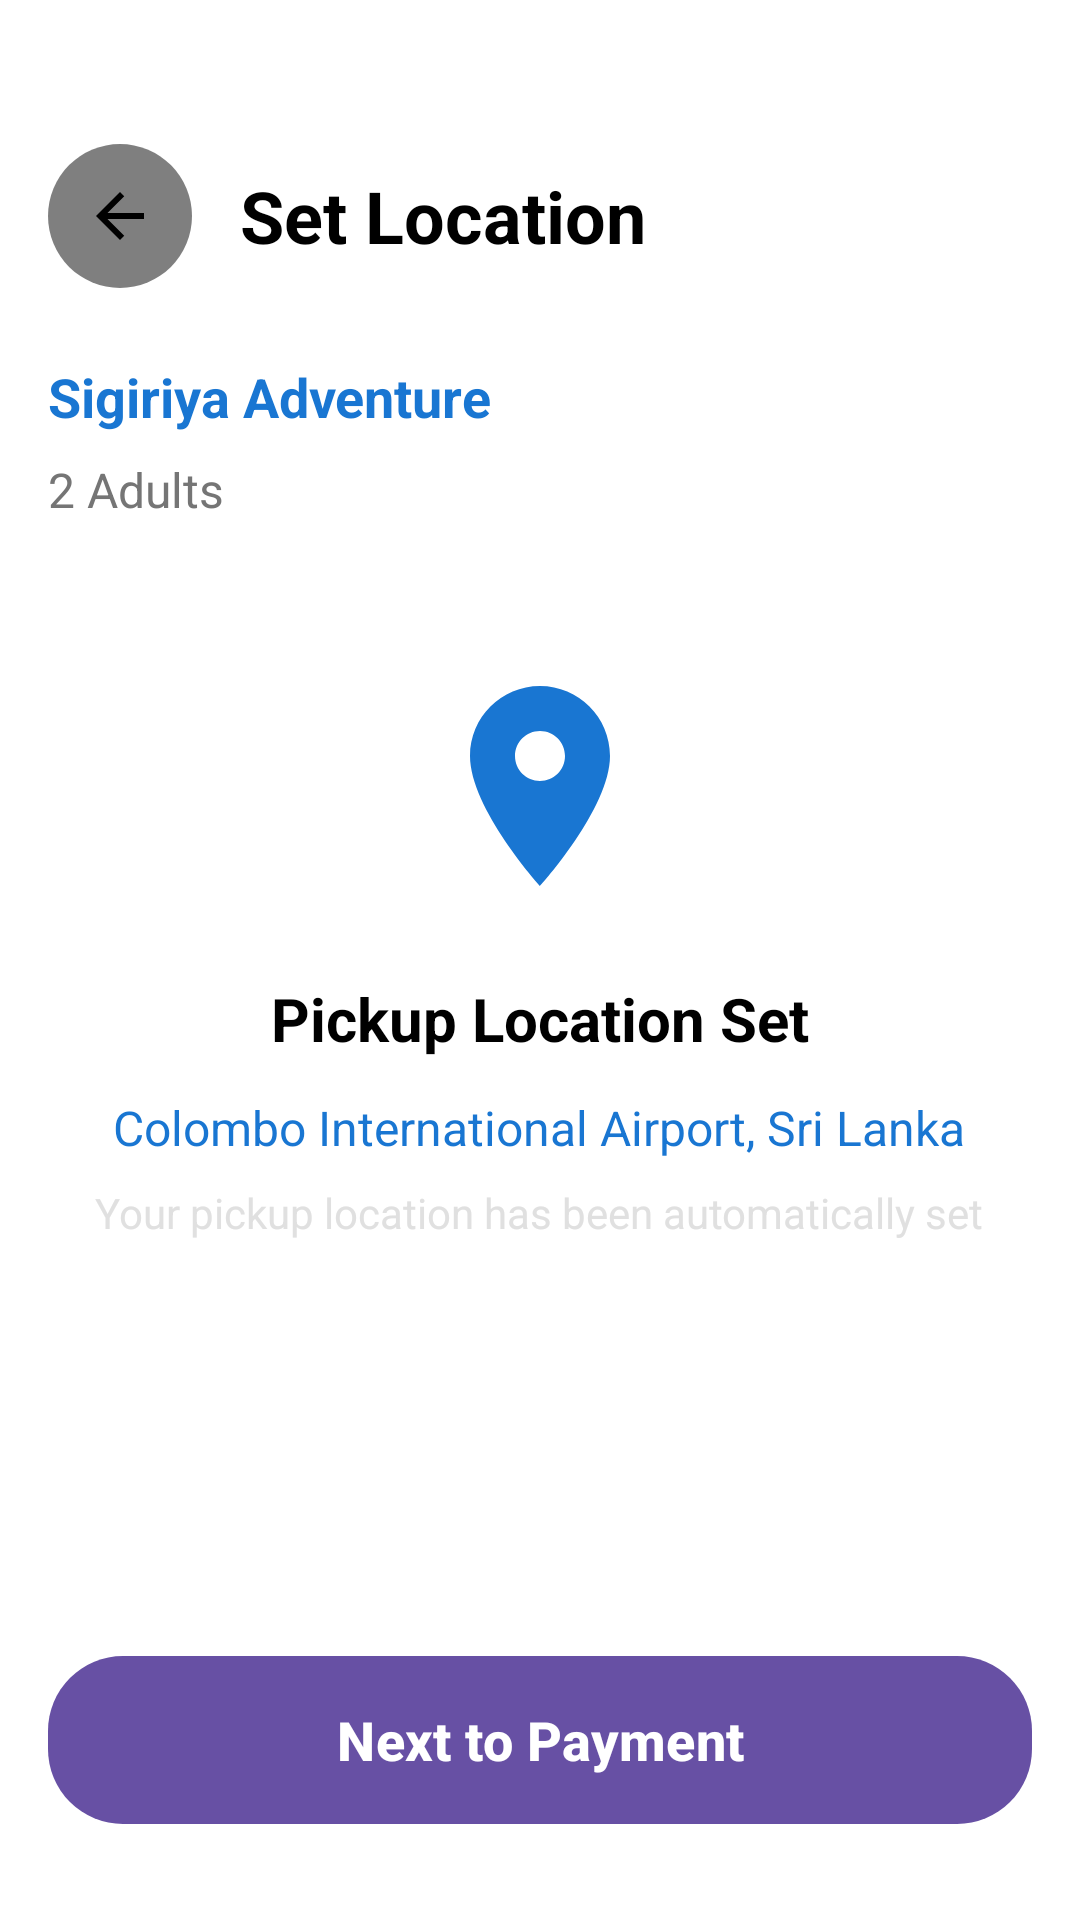

Where to tap for icons on this 1080px x 1920px app screen, as point (x, y):
Back button: point (120, 216)
